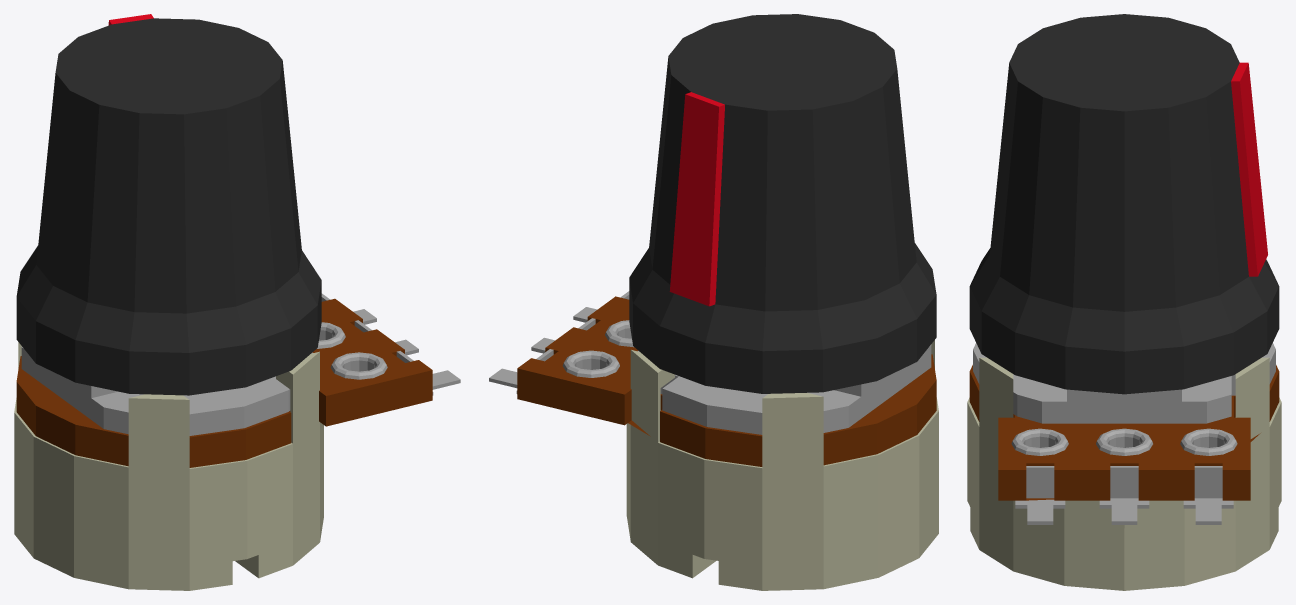
Rendered from Potentiometr.fbx.
The picture shows the model from 3 angles, left to right: view 1: azimuth 30°, elevation 25°; view 2: azimuth 150°, elevation 25°; view 3: azimuth 270°, elevation 25°; orthographic projection.
Parts seen in each view (by area): view 1: Цилиндр.005, Цилиндр.003; view 2: Цилиндр.005, Цилиндр.003; view 3: Цилиндр.005, Цилиндр.003, Куб.001, Куб, Куб.002.
Boxes of the visible parts, x1,y1,x2,y2 form: Цилиндр.005: (16,14,321,395); Цилиндр.003: (14,298,432,590); Цилиндр.005: (629,14,936,393); Цилиндр.003: (517,296,938,590); Цилиндр.005: (969,14,1279,394); Цилиндр.003: (967,343,1281,590); Куб.001: (1183,466,1233,524); Куб: (1099,466,1149,524); Куб.002: (1015,466,1065,524).
Bounding box in the file's own units: 284 × 330 × 203.
